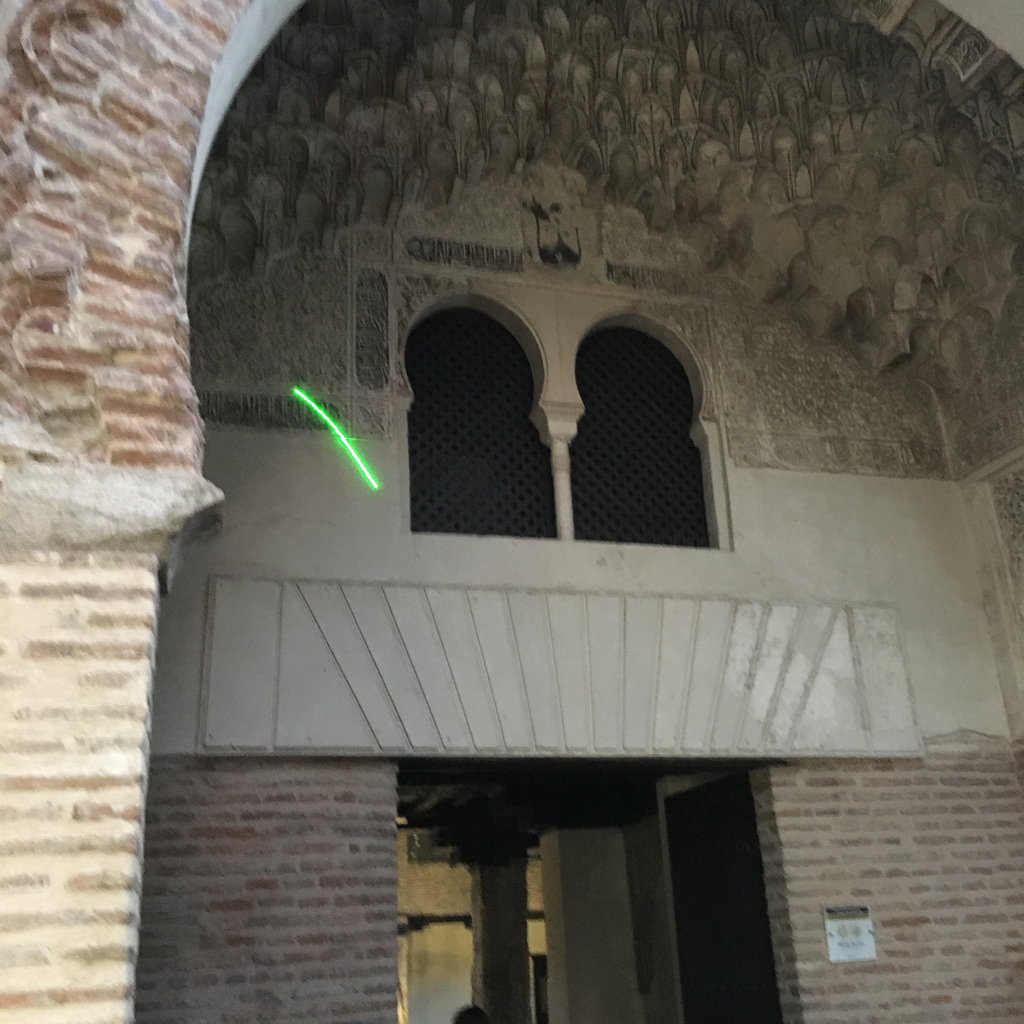arco-herradura: (392, 283, 562, 439), (563, 301, 713, 441)
dintel-adovelado: (291, 576, 849, 756)
